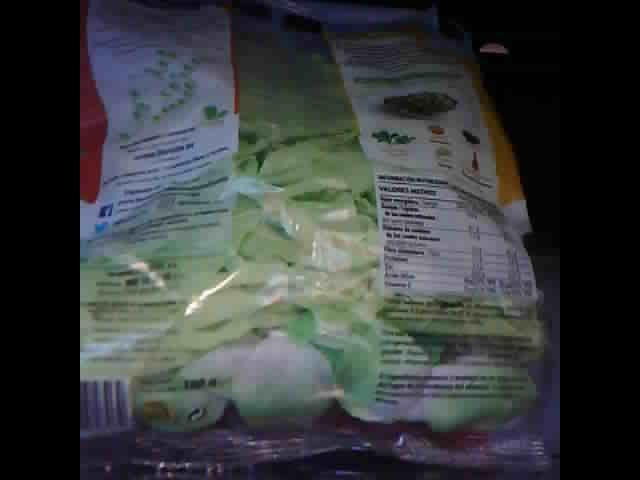florette: (80, 5, 553, 476)
